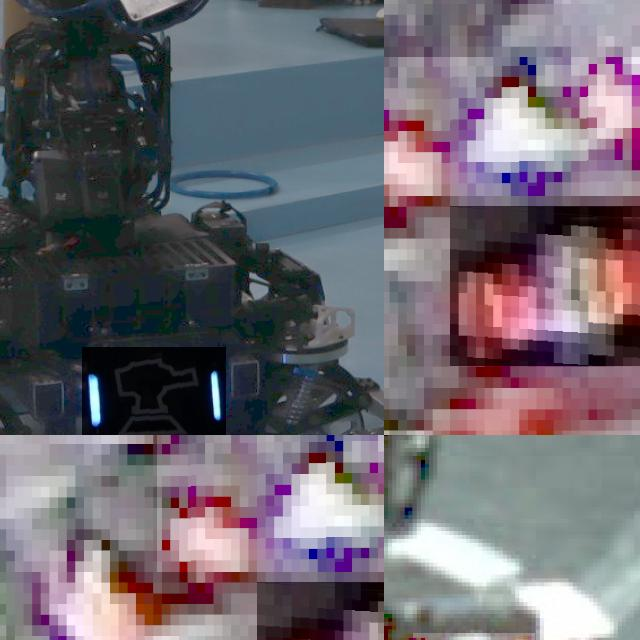Bs: (81, 347, 226, 435)
R4: (384, 57, 640, 195), (157, 435, 384, 571), (450, 206, 640, 366), (6, 513, 135, 640), (257, 582, 384, 640)
